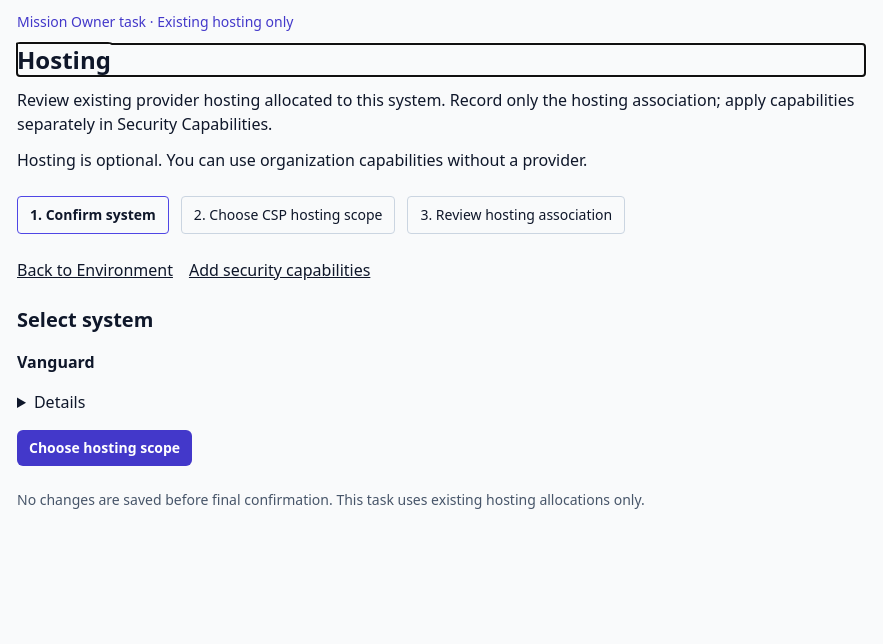
it: Mission Owner association task › leaves organization-only systems usable when no hosting is allocated
The image size is (883, 644).
Click the button "Choose hosting scope".
click(105, 448)  # box x1=17 y1=430 x2=192 y2=466
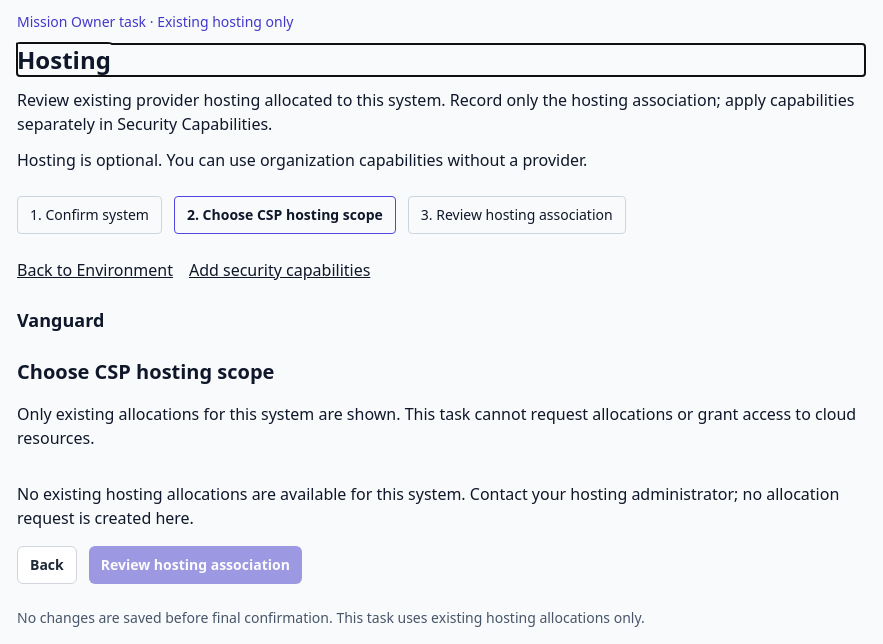
Expected: the text "You can use organization capabilities without a provider" is shown, x1=17 y1=149 x2=587 y2=171
Expected: the text "No existing hosting allocations" is shown, x1=17 y1=483 x2=839 y2=529
Expected: the button "Review hosting association" is disabled, x1=89 y1=546 x2=302 y2=584
